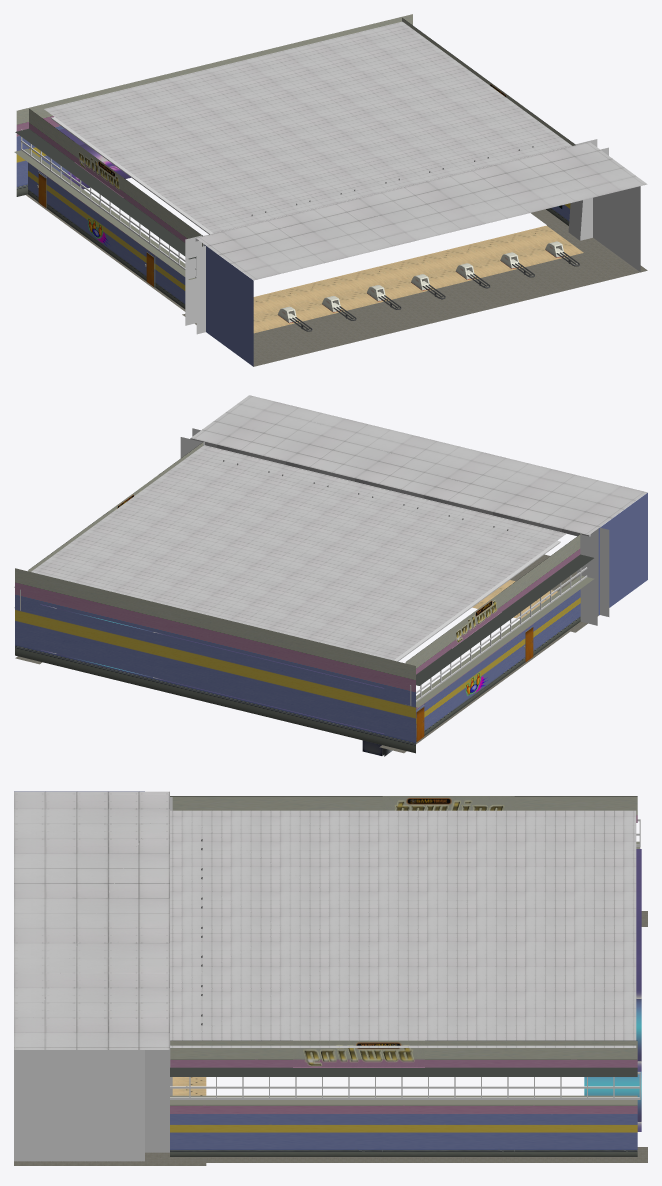
Rendered from club.fbx.
3 renders of one model, top to bottom at view 1: azimuth 30°, elevation 25°; view 2: azimuth 150°, elevation 25°; view 3: azimuth 270°, elevation 25°, orthographic. The views are drawn at different scales.
Visible parts, largest first — view 1: polySurface4, polySurface22, polySurface23, polySurface6, polySurface10, polySurface12, polySurface21, polySurface145, polySurface146, polySurface24, polySurface167, polySurface3; view 2: polySurface4, polySurface12, polySurface23, polySurface6, polySurface10, polySurface22, polySurface145, polySurface24, polySurface3, polySurface167, polySurface168; view 3: polySurface4, polySurface23, polySurface11, polySurface167, polySurface21, polySurface10, polySurface5, polySurface146, polySurface3, polySurface22, polySurface47, polySurface49.
Part boxes in pixels (bbox=[...]): polySurface4: bbox=[44, 21, 571, 233]; polySurface22: bbox=[182, 221, 647, 366]; polySurface23: bbox=[195, 142, 647, 280]; polySurface6: bbox=[14, 148, 195, 308]; polySurface10: bbox=[15, 109, 202, 259]; polySurface12: bbox=[16, 14, 412, 196]; polySurface21: bbox=[593, 186, 640, 271]; polySurface145: bbox=[185, 235, 213, 334]; polySurface146: bbox=[568, 139, 608, 240]; polySurface24: bbox=[51, 117, 213, 234]; polySurface167: bbox=[402, 18, 575, 145]; polySurface3: bbox=[59, 128, 130, 189]; polySurface4: bbox=[27, 445, 566, 660]; polySurface12: bbox=[15, 568, 415, 753]; polySurface23: bbox=[190, 395, 647, 536]; polySurface6: bbox=[416, 575, 594, 742]; polySurface10: bbox=[405, 533, 593, 685]; polySurface22: bbox=[472, 493, 647, 632]; polySurface145: bbox=[576, 527, 609, 625]; polySurface24: bbox=[394, 540, 560, 661]; polySurface3: bbox=[40, 604, 383, 733]; polySurface167: bbox=[14, 441, 204, 587]; polySurface168: bbox=[379, 631, 569, 753]; polySurface4: bbox=[170, 810, 636, 1047]; polySurface23: bbox=[14, 791, 169, 1049]; polySurface11: bbox=[170, 1095, 637, 1156]; polySurface167: bbox=[170, 1040, 637, 1076]; polySurface21: bbox=[14, 1050, 144, 1161]; polySurface10: bbox=[170, 796, 637, 822]; polySurface5: bbox=[206, 1147, 647, 1162]; polySurface146: bbox=[145, 1041, 172, 1152]; polySurface3: bbox=[584, 849, 641, 1131]; polySurface22: bbox=[14, 791, 206, 1165]; polySurface47: bbox=[170, 1086, 640, 1088]; polySurface49: bbox=[170, 1097, 640, 1099].
Bounding box in the file's own units: 34.37 × 7.97 × 34.09.
24 materials, 21 textured.
